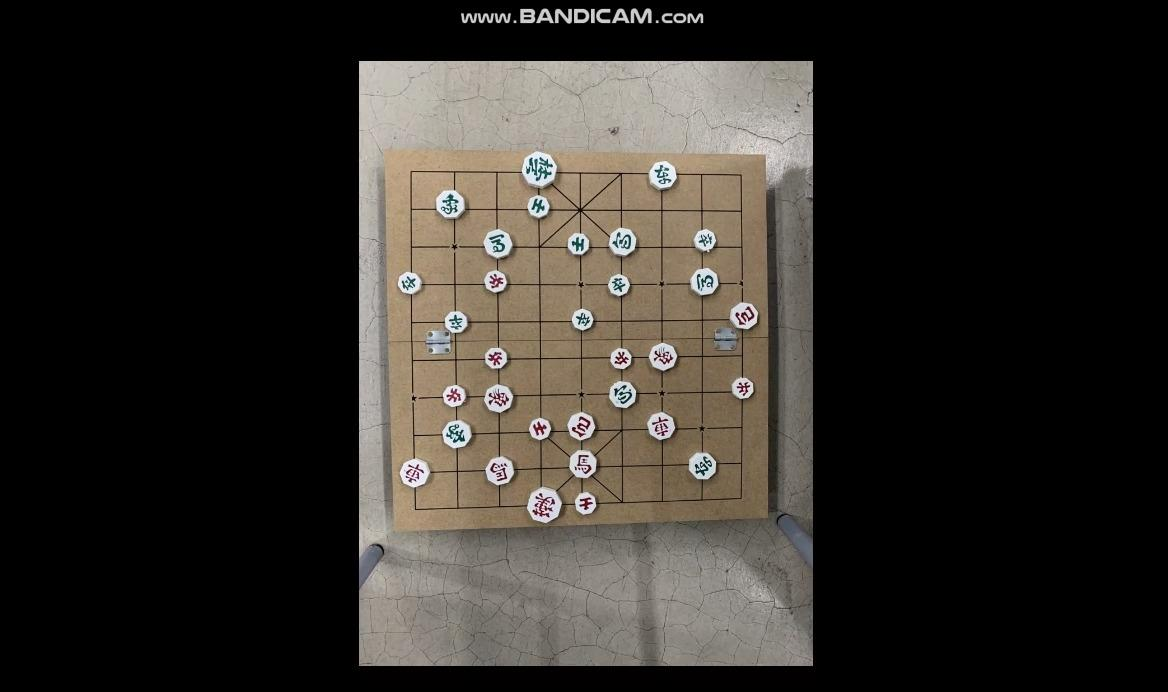cha_green: (648, 162, 678, 189), (688, 453, 716, 479)
cha_red: (400, 459, 431, 488), (646, 413, 677, 440)
jol_green: (608, 274, 632, 296), (572, 309, 597, 330), (397, 273, 423, 293), (445, 312, 470, 332), (695, 230, 718, 251)
jol_red: (440, 386, 465, 407), (484, 271, 509, 292), (731, 378, 756, 398), (484, 349, 508, 369), (609, 348, 633, 368)
ma_green: (483, 231, 514, 258), (692, 269, 721, 294)
ma_red: (485, 459, 517, 485), (568, 450, 598, 477)
po_green: (608, 228, 638, 255), (608, 382, 638, 407)
po_red: (567, 413, 597, 440), (729, 302, 760, 327)
sa_green: (526, 197, 552, 218), (568, 234, 591, 254)
sa_red: (575, 493, 598, 514), (529, 418, 552, 439)
sang_green: (442, 420, 474, 448), (434, 191, 465, 218)
sang_red: (484, 387, 516, 413), (649, 344, 678, 370)
wang_green: (520, 152, 557, 187)
wang_red: (527, 488, 565, 520)
